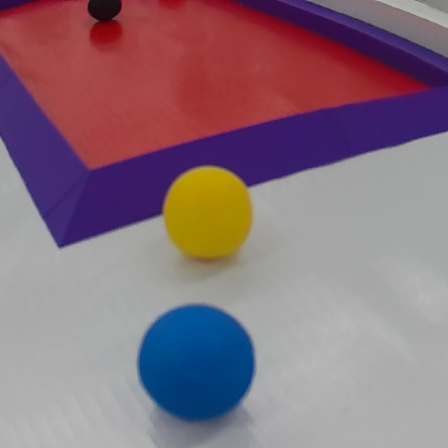black: (79, 0, 124, 27)
blue: (136, 301, 261, 418)
red_aim: (0, 0, 447, 256)
yellow: (164, 161, 257, 265)
